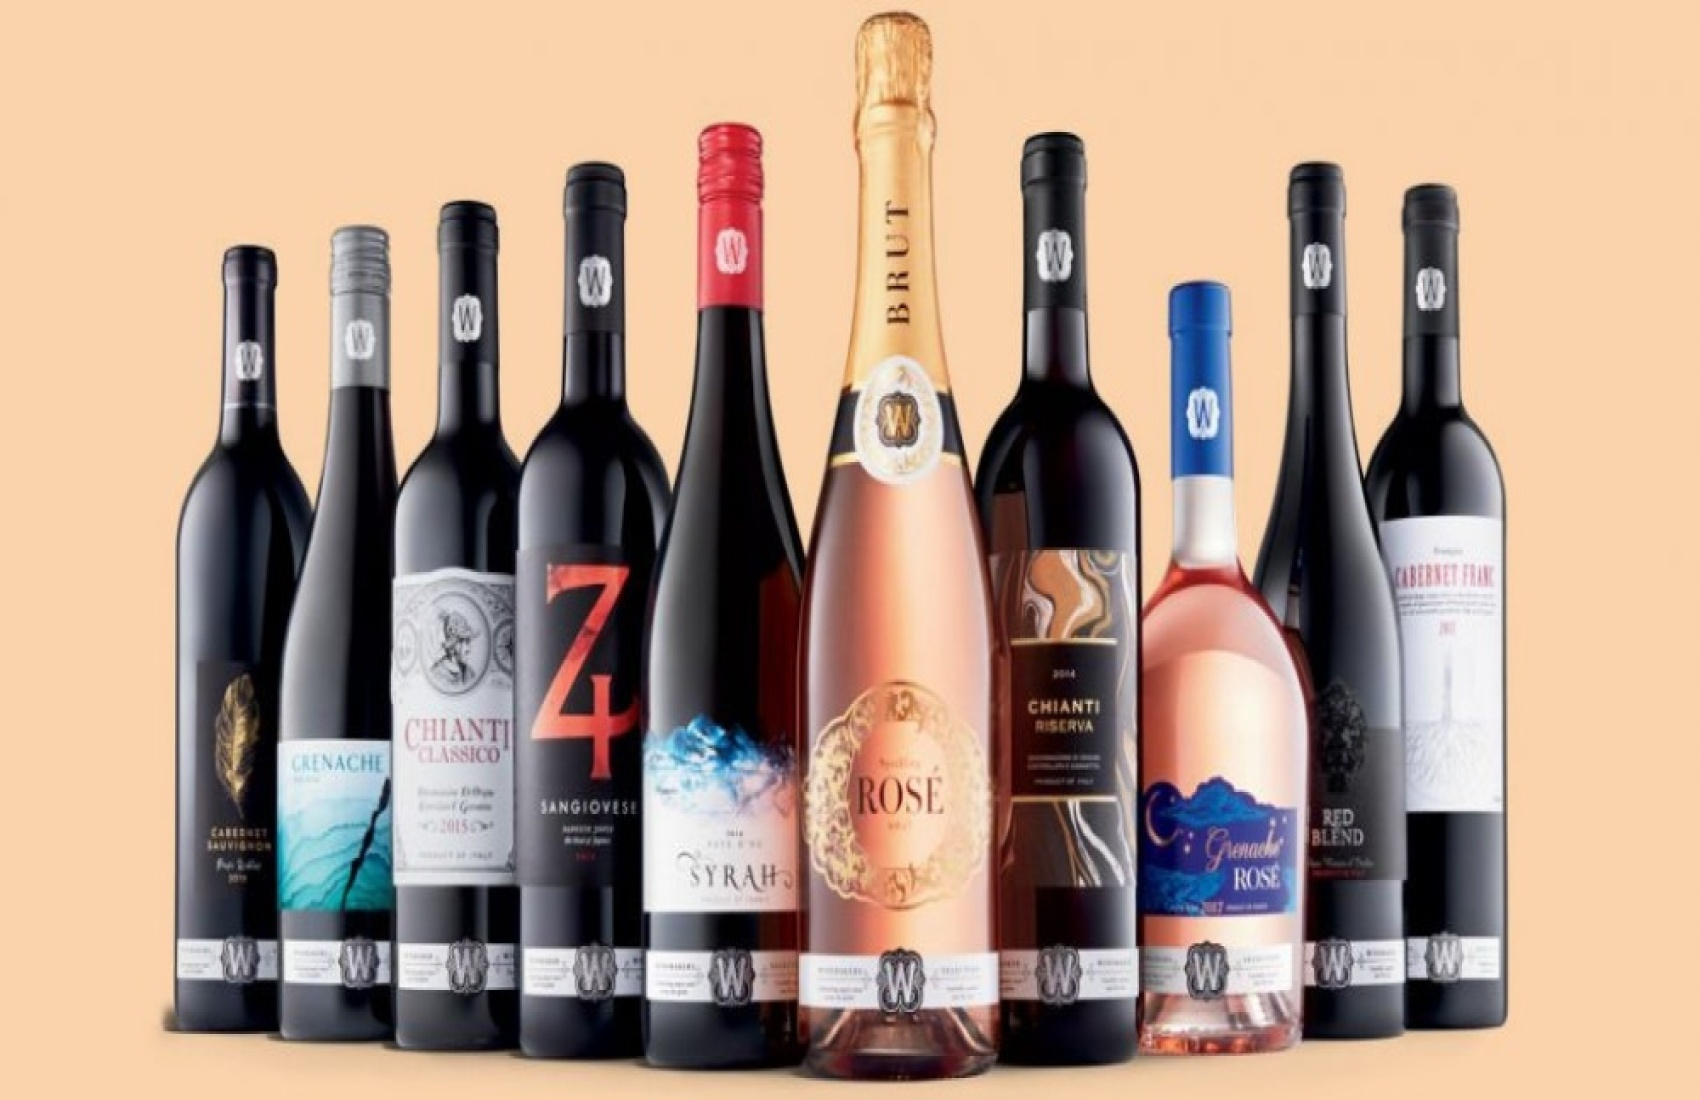wine: (794, 25, 992, 1072), (1149, 62, 1306, 1047), (637, 55, 789, 1064), (507, 43, 639, 1042), (1004, 69, 1136, 1068), (398, 59, 510, 1059), (173, 47, 286, 1045), (283, 42, 395, 1041), (1394, 33, 1505, 1032)
